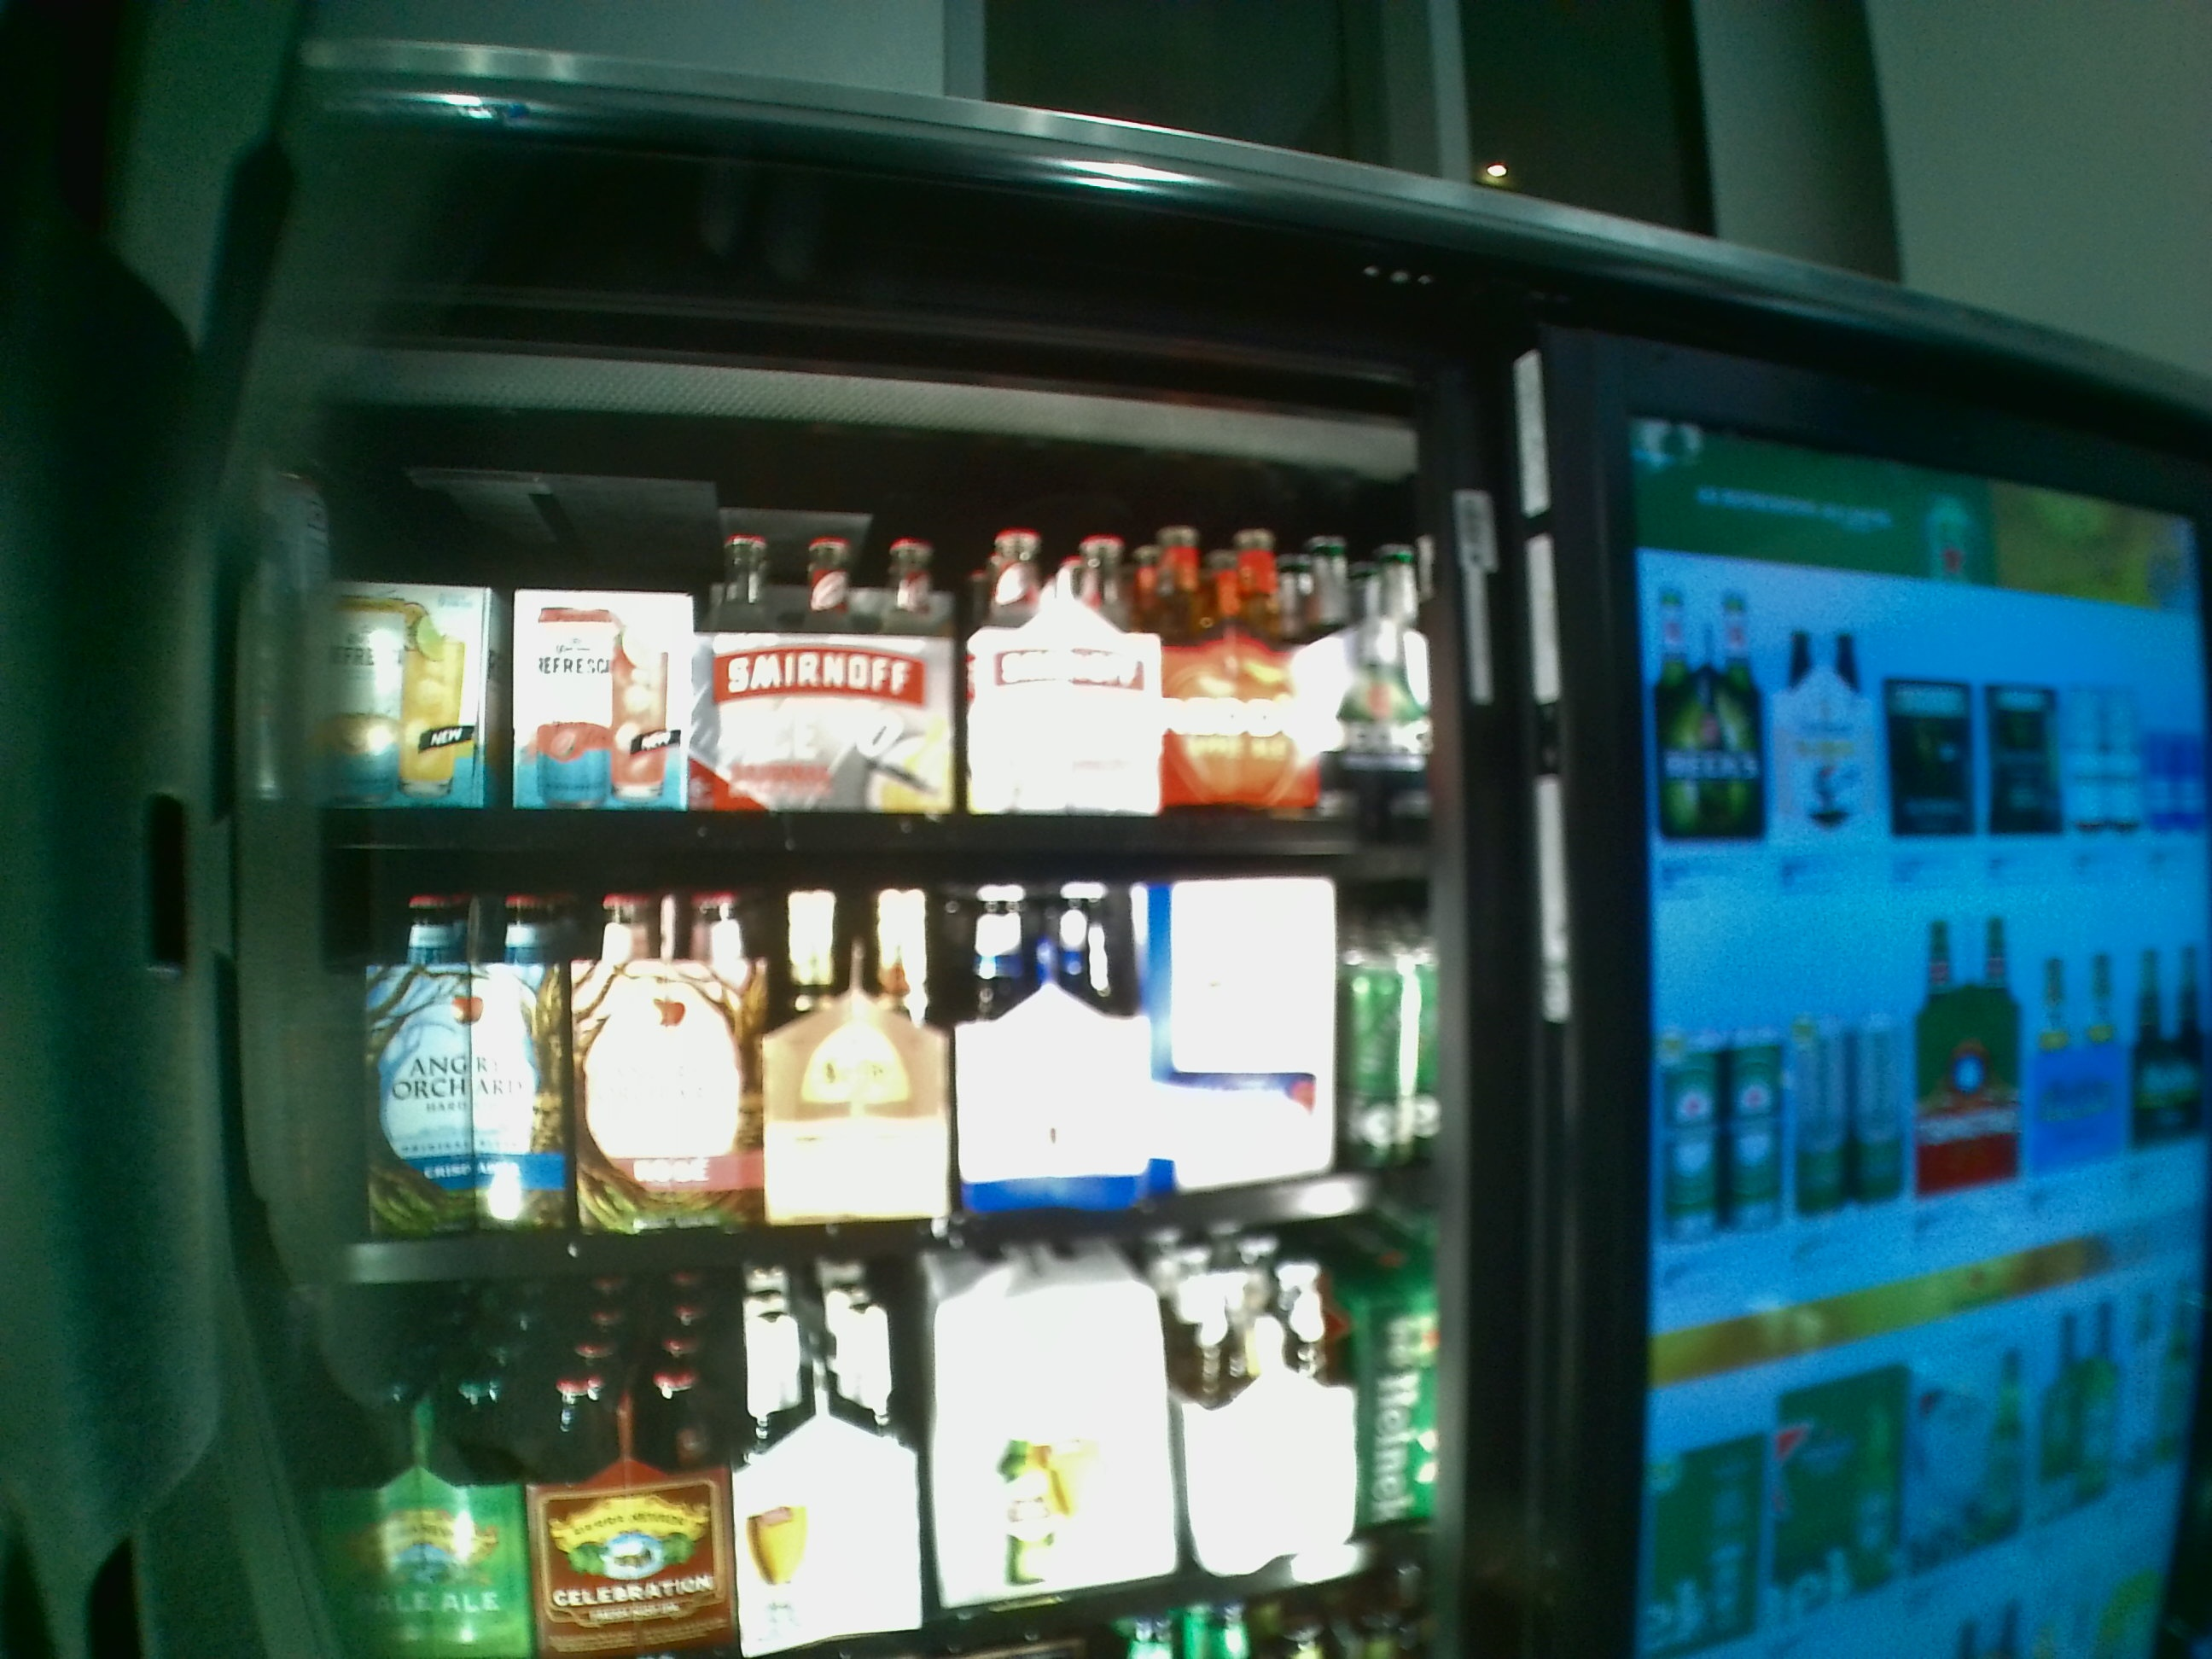shelf: (331, 873, 1435, 1298), (336, 476, 1425, 859)
